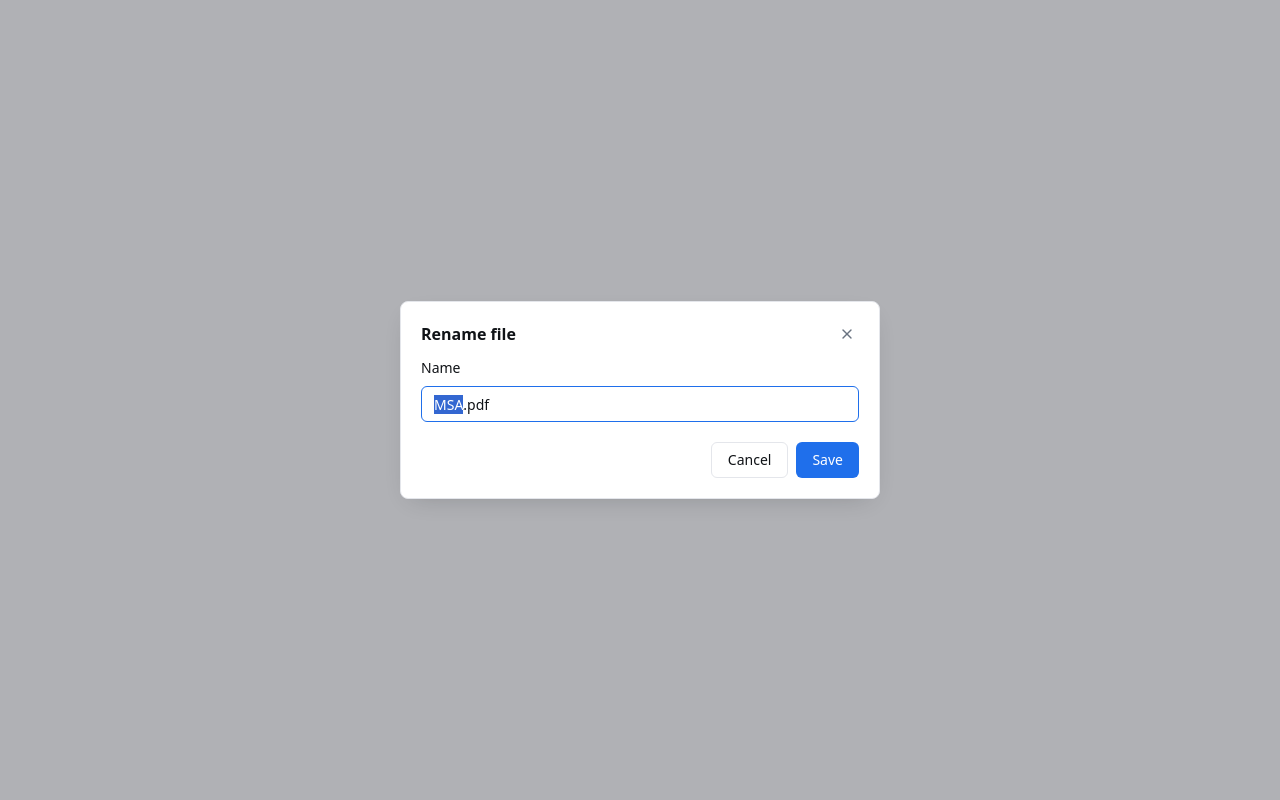
Test: RenameDialog › surfaces a 409 inline instead of closing
The image size is (1280, 800).
Replace the text in the field labelled "Name" with "NDA.pdf" at (640, 404), box [421,386,859,422]
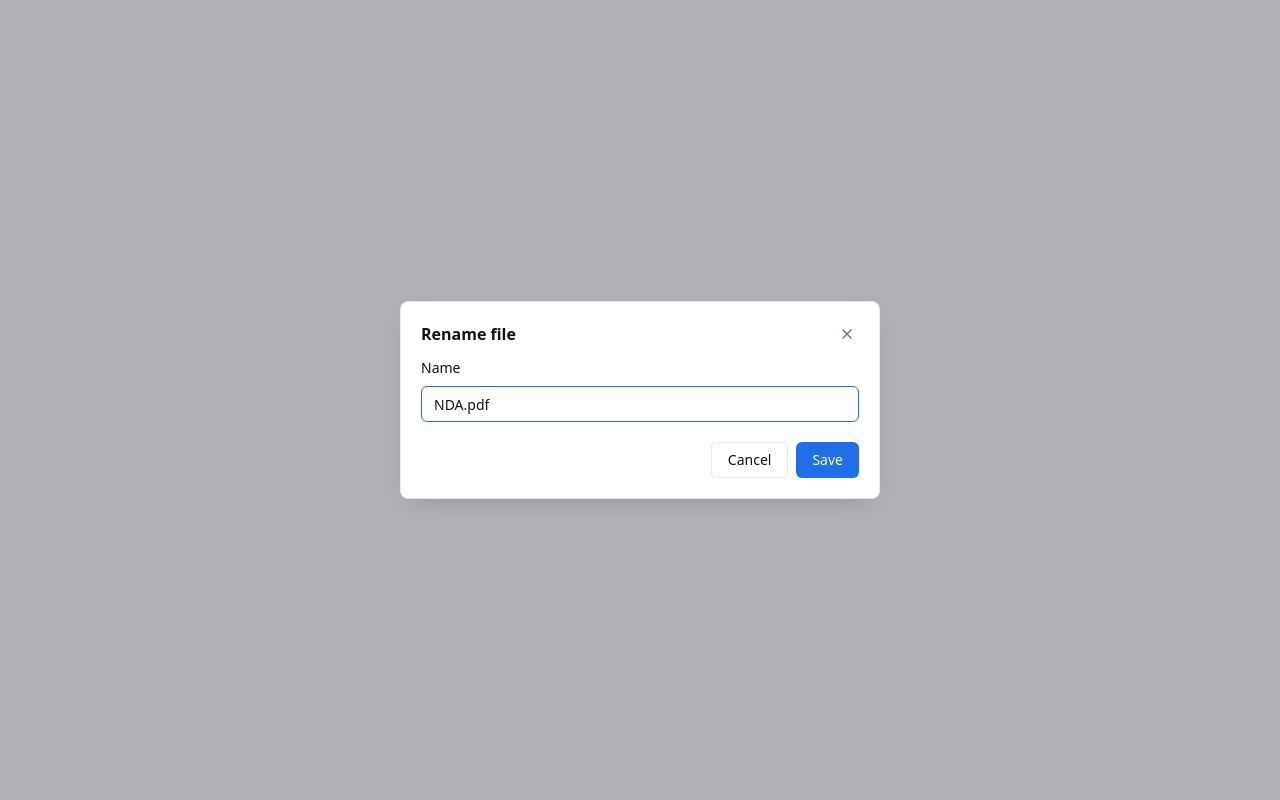
Click the button "Save" at (828, 460), box [796,442,859,478]
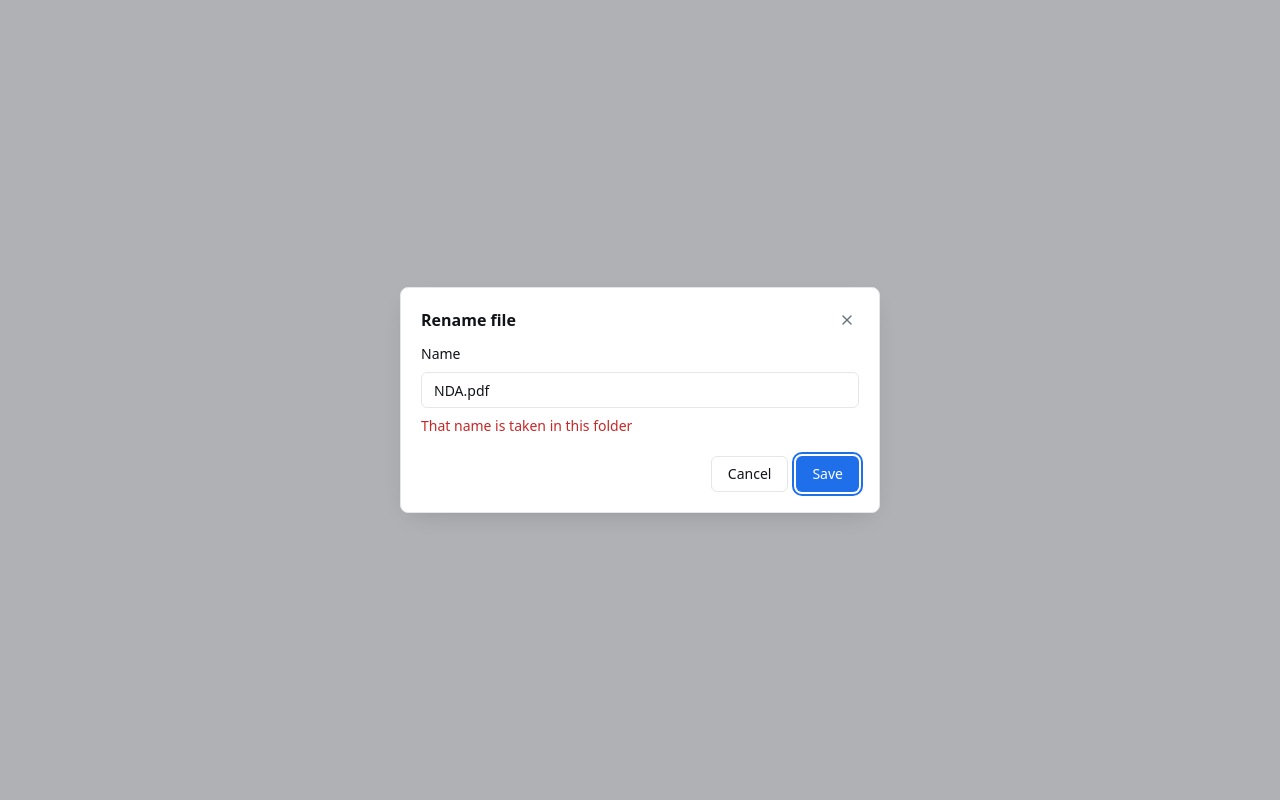
expect the message shows "taken": met, box [421,416,632,435]
